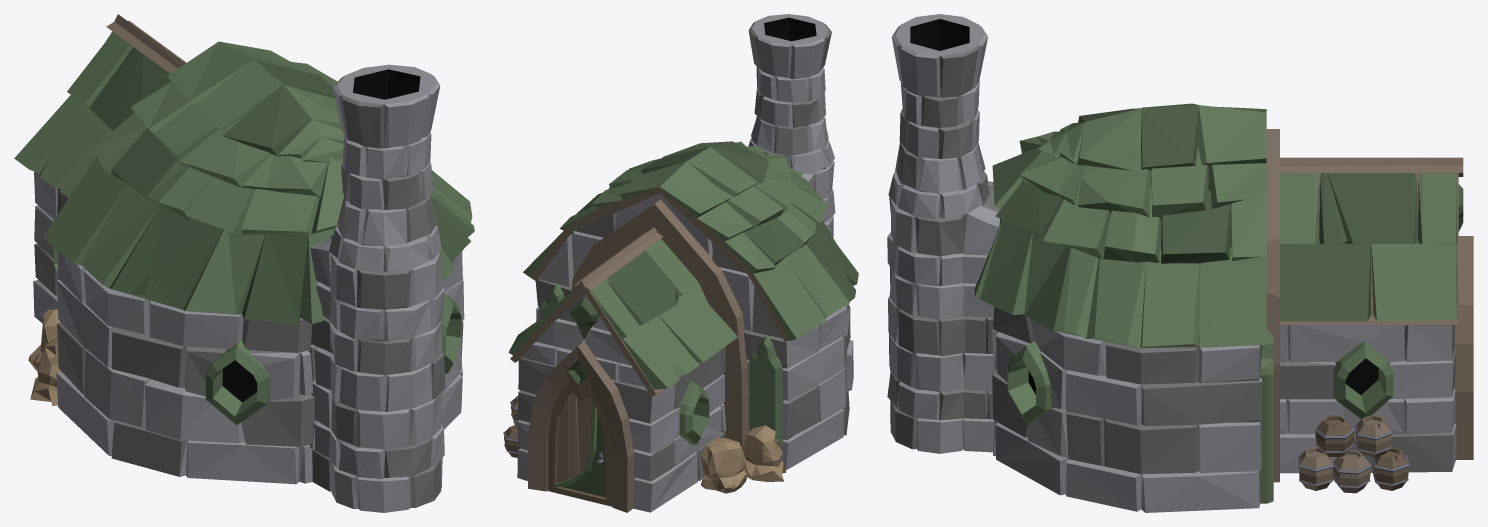
Rendered from tavern.fbx.
The picture shows the model from 3 angles, left to right: view 1: azimuth 30°, elevation 25°; view 2: azimuth 150°, elevation 25°; view 3: azimuth 270°, elevation 25°; orthographic projection. The views are drawn at different scales.
Parts seen in each view (by area): view 1: winery; view 2: winery; view 3: winery.
Part boxes in pixels (<box>): winery: <box>14,14,474,512</box>; winery: <box>503,14,858,512</box>; winery: <box>887,14,1473,512</box>.
Size of the model in its own units: 258 by 277 by 372.
